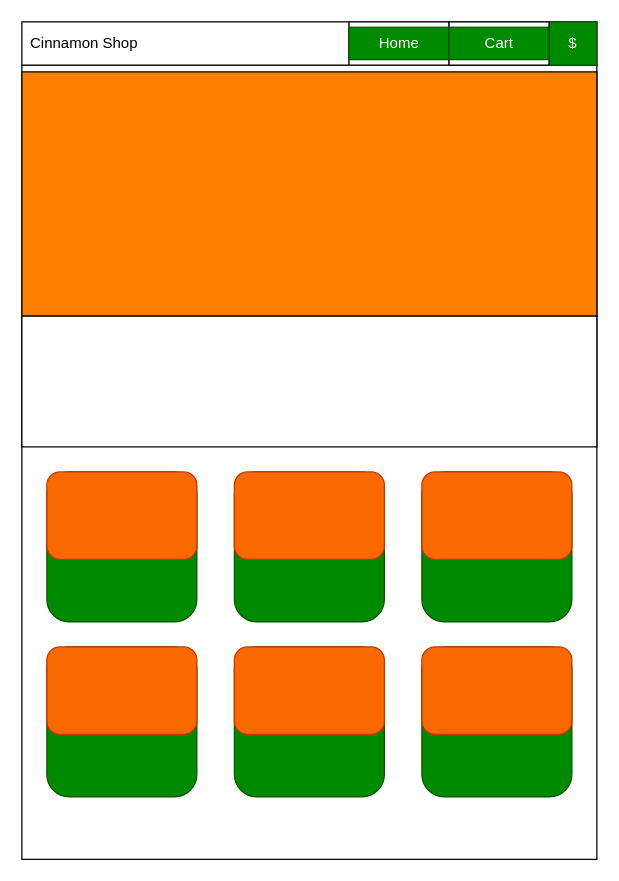
This 619x881 diagram has some shape labels left out. Here are the shapes that lost their labels. From the top down, the box of each, then its label:
(21, 71, 597, 316): Background
(21, 315, 597, 447): About Us
